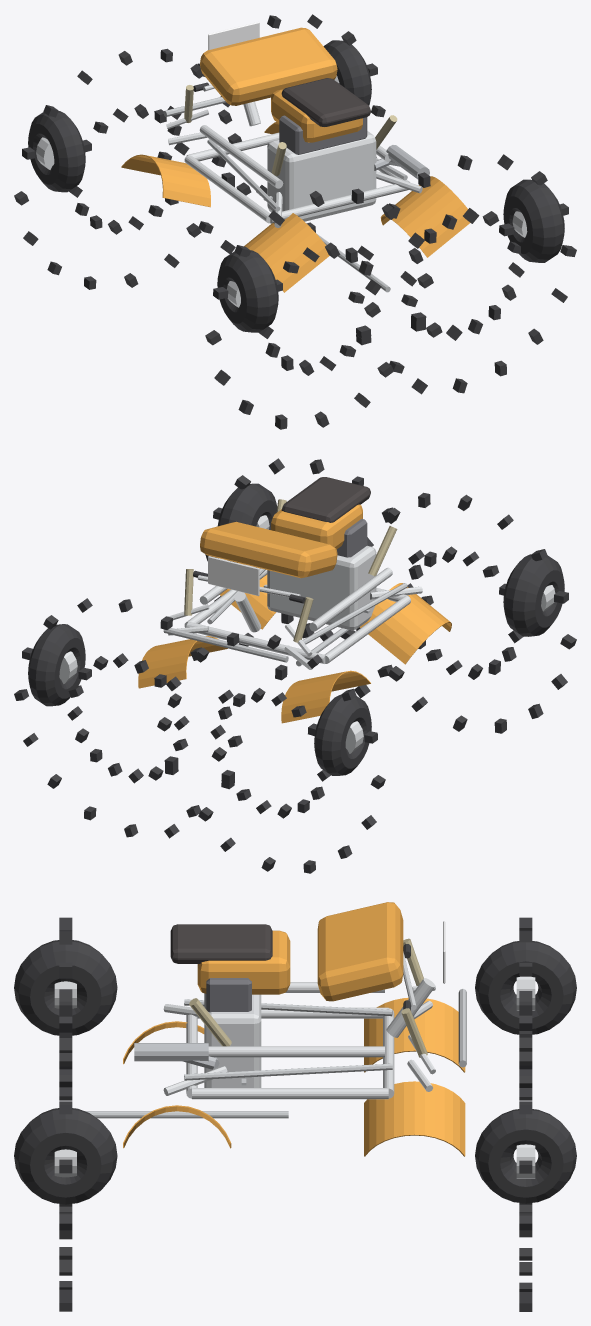
Rendered from atv250.glb.
The picture shows the model from 3 angles, top to bottom: view 1: azimuth 30°, elevation 25°; view 2: azimuth 150°, elevation 25°; view 3: azimuth 270°, elevation 25°; orthographic projection. The views are drawn at different scales.
Parts seen in each view (by area): view 1: b_hood, b_engine, b_wheel_rr_tire, b_wheel_rl_tire, b_rfender_1, b_wheel_fl_tire, b_rfender_-1, b_seat, b_wheel_rr, b_ffender_-1, b_wheel_rl, b_wheel_fr_tire (+11 smaller); view 2: b_hood, b_engine, b_wheel_rl_tire, b_wheel_fr_tire, b_wheel_fl_tire, b_rfender_-1, b_seat, b_ffender_-1, b_wheel_fr, b_wheel_fl, b_tank, b_ffender_1 (+12 smaller); view 3: b_hood, b_wheel_rr_tire, b_wheel_fr_tire, b_wheel_rl_tire, b_wheel_fl_tire, b_ffender_1, b_seat, b_ffender_-1, b_engine, b_tank, b_rail_1, b_wheel_rr (+15 smaller).
Part boxes in pixels (x1,y1,x2,y2): b_hood: (200, 27, 337, 105); b_engine: (267, 131, 376, 221); b_wheel_rr_tire: (503, 179, 564, 262); b_wheel_rl_tire: (217, 250, 278, 332); b_rfender_1: (380, 176, 470, 257); b_wheel_fl_tire: (28, 111, 85, 192); b_rfender_-1: (244, 213, 329, 292); b_seat: (281, 78, 370, 126); b_wheel_rr: (348, 154, 576, 394); b_ffender_-1: (121, 154, 210, 207); b_wheel_rl: (259, 242, 381, 375); b_wheel_fr_tire: (323, 40, 371, 105); b_hood: (200, 521, 337, 578); b_engine: (267, 545, 376, 630); b_wheel_rl_tire: (503, 554, 564, 636); b_wheel_fr_tire: (28, 624, 85, 706); b_wheel_fl_tire: (314, 694, 371, 775); b_rfender_-1: (359, 583, 451, 664); b_seat: (281, 477, 370, 522); b_ffender_-1: (281, 670, 370, 723); b_wheel_fr: (14, 598, 242, 838); b_wheel_fl: (210, 688, 330, 818); b_tank: (271, 504, 362, 548); b_ffender_1: (138, 636, 227, 688); b_hood: (317, 902, 403, 1001); b_wheel_rr_tire: (14, 1108, 117, 1204); b_wheel_fr_tire: (475, 1109, 576, 1203); b_wheel_rl_tire: (14, 940, 117, 1035); b_wheel_fl_tire: (475, 941, 576, 1034); b_ffender_1: (364, 1081, 465, 1156); b_seat: (170, 924, 272, 963); b_ffender_-1: (364, 997, 465, 1072); b_engine: (204, 993, 261, 1087); b_tank: (197, 930, 290, 994); b_rail_1: (192, 1088, 388, 1099); b_wheel_rr: (59, 1001, 72, 1311).
Size of the model in its own units: 2.75 by 1.94 by 3.03.
